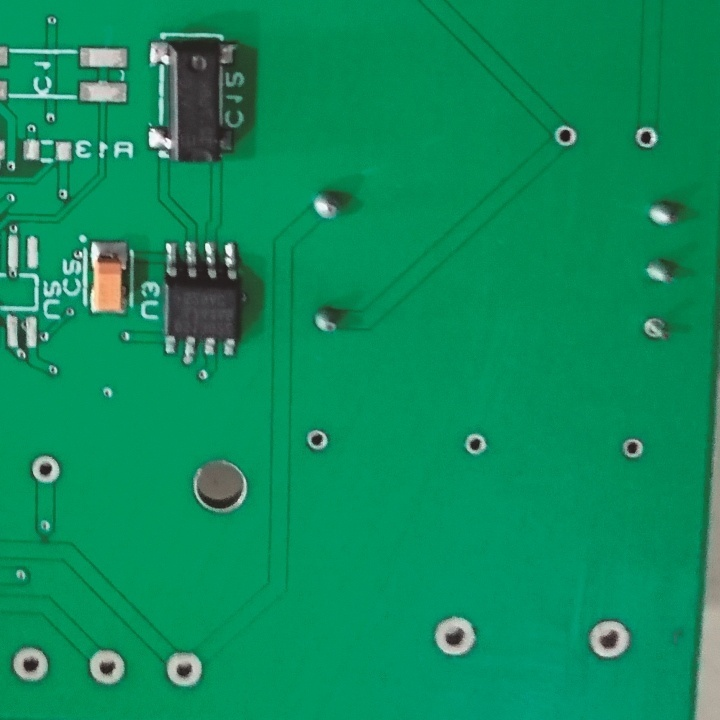F: (583, 615, 635, 666), (161, 646, 209, 693), (430, 615, 478, 659), (7, 645, 56, 687), (84, 646, 130, 686), (638, 312, 676, 349), (28, 452, 65, 490), (630, 122, 662, 155), (301, 426, 335, 457), (616, 432, 645, 466), (461, 432, 493, 459), (550, 123, 580, 150)
